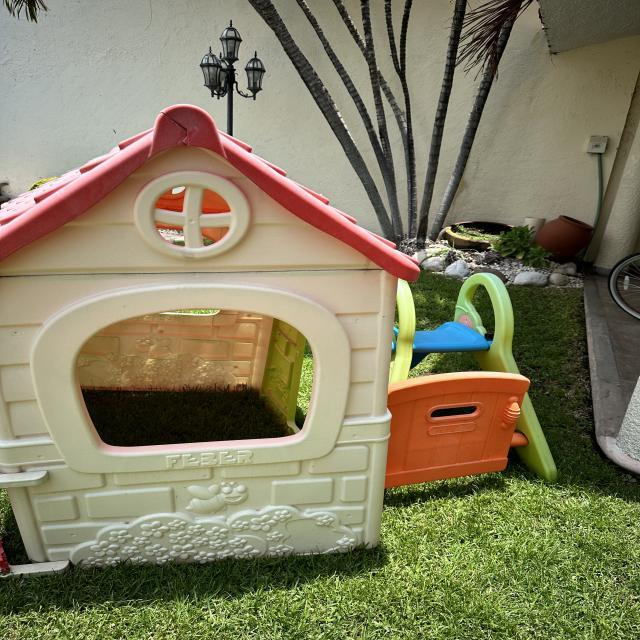hidden camera: (487, 335, 490, 338)
